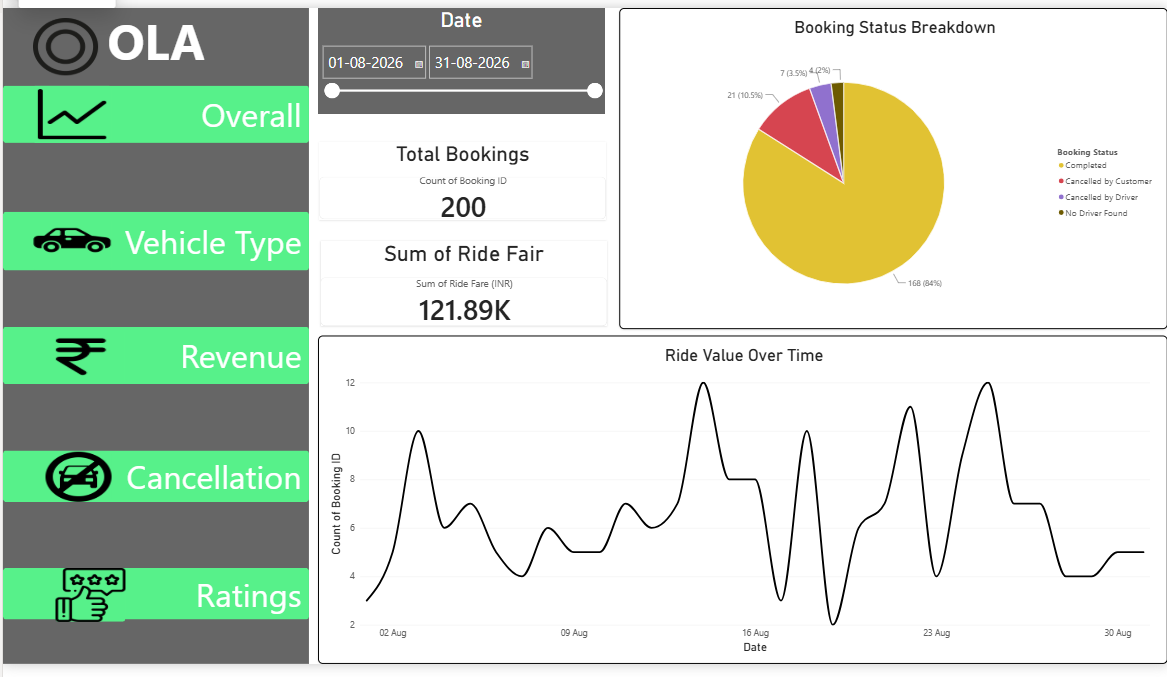

What the dashboard file says about the page in this screenshot:
{"tool":"powerbi","page":{"name":"Overall","canvas":[1920,1080],"ordinal":0},"visuals":[{"type":"shape","box":[0,0,503.8,1080.1],"z":0},{"type":"actionButton","box":[0,127,503.8,94.7],"z":2004},{"type":"actionButton","box":[0,334.5,503.8,96.7],"z":2005},{"type":"actionButton","box":[0,523.9,503.8,94.7],"z":2006},{"type":"actionButton","box":[0,729.5,503.8,84.6],"z":2007},{"type":"actionButton","box":[0,922.9,503.8,84.6],"z":2008},{"type":"actionButton","box":[70.5,731.5,108.8,82.6],"z":2009},{"type":"actionButton","box":[86.7,922.9,114.9,88.7],"z":2010},{"type":"actionButton","box":[50.4,346.6,129,84.6],"z":2011},{"type":"actionButton","box":[50.4,127,129,94.7],"z":2012},{"type":"actionButton","box":[50.4,528,151.1,90.7],"z":2013},{"type":"actionButton","box":[50.4,16.1,106.8,94.7],"z":2014},{"type":"lineChart","title":"Ride Value Over Time","fields":{"Category":["Booking Data.Date"],"Y":["CountNonNull(Booking Data.Booking ID)"]},"box":[519.4,539.3,1400.7,541.1],"z":2015},{"type":"pieChart","title":"Booking Status Breakdown","fields":{"Category":["Booking Data.Booking Status"],"Y":["CountNonNull(Booking Data.Booking Status)"]},"box":[1015.2,0,904.8,528.4],"z":2016},{"type":"slicer","title":"Date","fields":{"Values":["Booking Data.Date"]},"box":[519.4,0,472.3,173.7],"z":2017},{"type":"cardVisual","title":"Total Bookings","fields":{"Data":["CountNonNull(Booking Data.Booking ID)"]},"box":[521.2,220.8,472.3,128.5],"z":2018},{"type":"cardVisual","title":"Sum of Ride Fair","fields":{"Data":["Sum(Booking Data.Ride Fare (INR))"]},"box":[523,383.6,472.3,141.2],"z":2019}]}

Visuals, with their boxes on the page's 1920x1080 design canvas (x1, y1, x2, y2). These are canvas units, not pixel positions in the 1167x677 screenshot, which may show the page scaled, cropped or inside an application window:
shape: <bbox>0, 0, 504, 1080</bbox>
actionButton: <bbox>0, 127, 504, 222</bbox>
actionButton: <bbox>0, 334, 504, 431</bbox>
actionButton: <bbox>0, 524, 504, 619</bbox>
actionButton: <bbox>0, 730, 504, 814</bbox>
actionButton: <bbox>0, 923, 504, 1008</bbox>
actionButton: <bbox>70, 732, 179, 814</bbox>
actionButton: <bbox>87, 923, 202, 1012</bbox>
actionButton: <bbox>50, 347, 179, 431</bbox>
actionButton: <bbox>50, 127, 179, 222</bbox>
actionButton: <bbox>50, 528, 202, 619</bbox>
actionButton: <bbox>50, 16, 157, 111</bbox>
"Ride Value Over Time" lineChart: <bbox>519, 539, 1920, 1080</bbox>
"Booking Status Breakdown" pieChart: <bbox>1015, 0, 1920, 528</bbox>
"Date" slicer: <bbox>519, 0, 992, 174</bbox>
"Total Bookings" cardVisual: <bbox>521, 221, 994, 349</bbox>
"Sum of Ride Fair" cardVisual: <bbox>523, 384, 995, 525</bbox>
